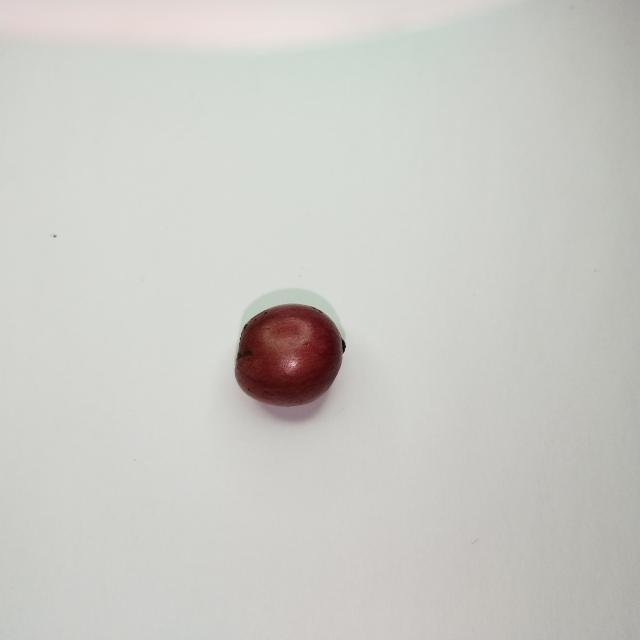Sano: (235, 303, 345, 406)
